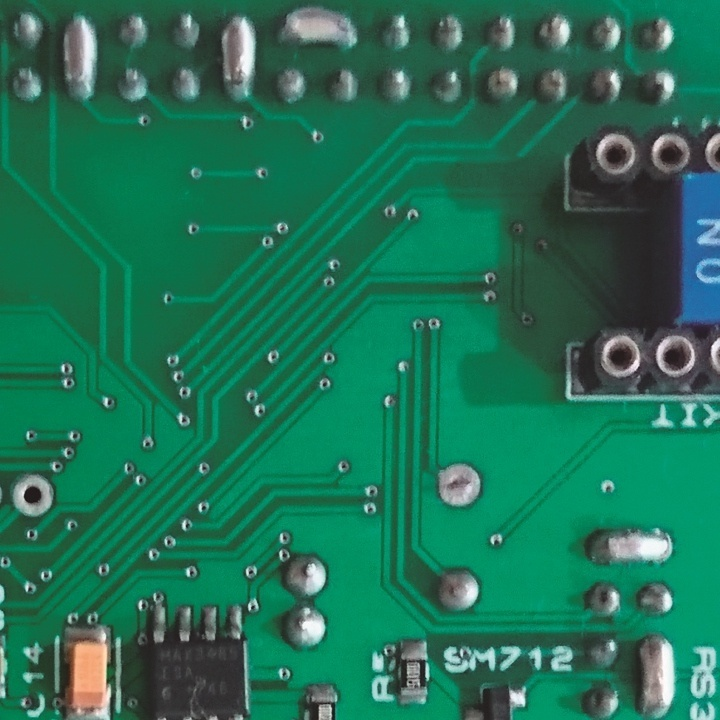F: (436, 460, 484, 511), (9, 474, 57, 517)
P: (273, 3, 359, 55), (58, 12, 104, 108), (582, 525, 679, 570), (632, 631, 680, 720), (217, 12, 261, 106)
